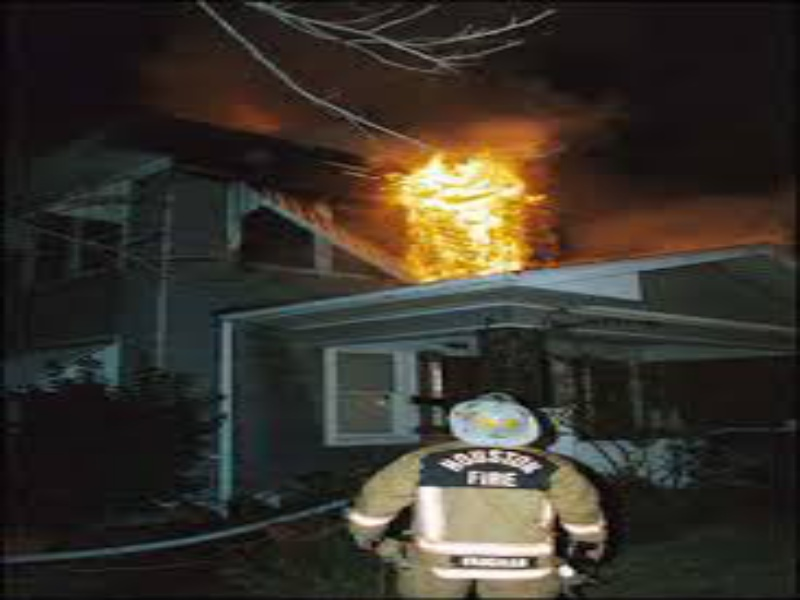fire: (392, 150, 539, 274)
